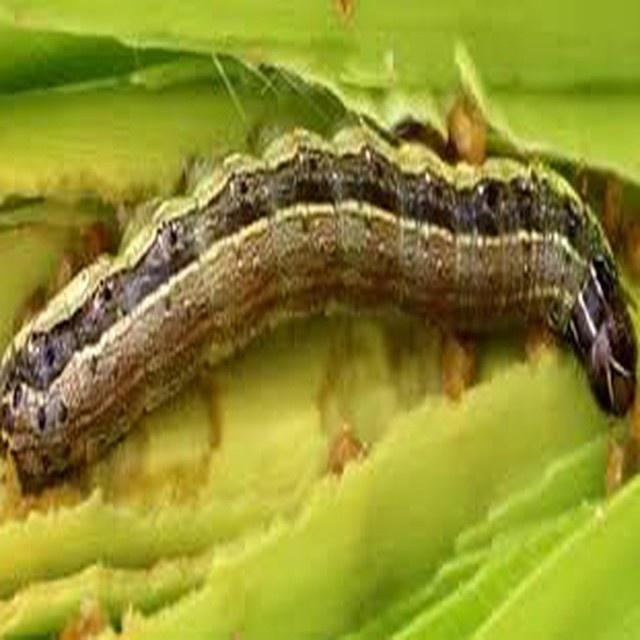gusano_cogollero: (0, 98, 640, 494)
